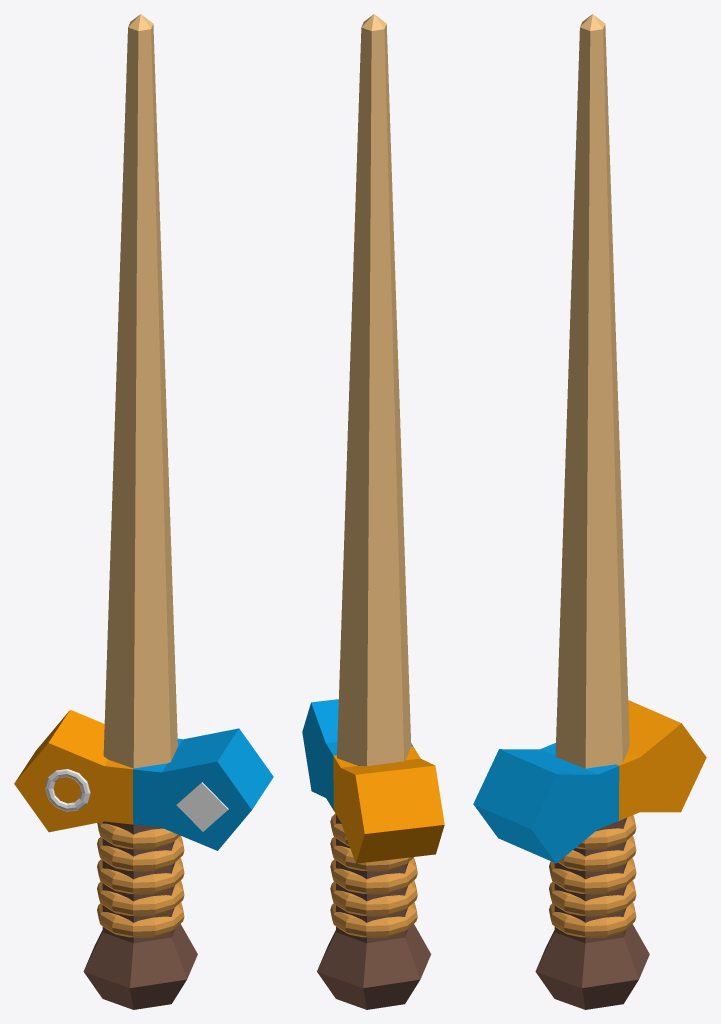
File: wand.glb
3 views of the same model, side by side, from view 1: azimuth 30°, elevation 25°; view 2: azimuth 150°, elevation 25°; view 3: azimuth 270°, elevation 25° (orthographic).
Parts seen in each view (by area): view 1: group634549096; view 2: group634549096; view 3: group634549096.
Part boxes in pixels (x1,y1,x2,y2): group634549096: [14, 14, 273, 1009]; group634549096: [302, 14, 444, 1009]; group634549096: [473, 14, 706, 1009].
Bounding box in the file's own units: 0.1827 × 0.85 × 0.1837.
